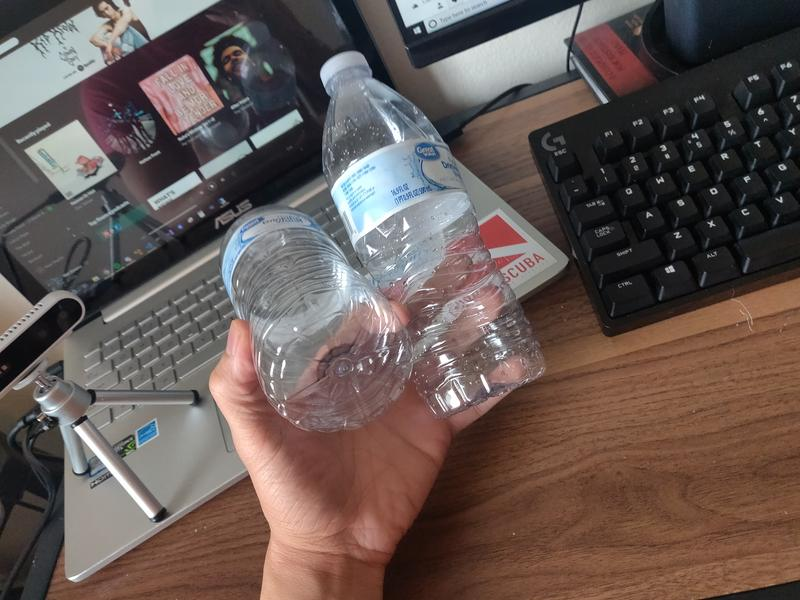bottle: (320, 51, 547, 419), (221, 203, 414, 431)
